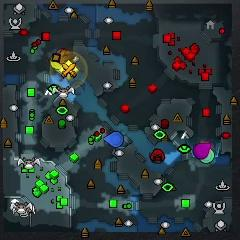Other: (59, 60, 79, 81)
p1: (104, 131, 124, 148)
p2: (201, 149, 214, 164)
p3: (193, 143, 212, 159)
p4: (50, 54, 67, 70)
p5: (57, 48, 64, 54)
x5: (59, 48, 74, 64)
